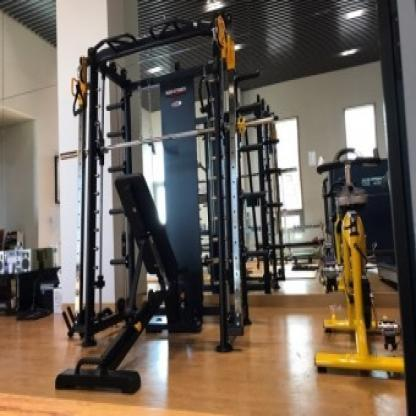smith machine: (76, 14, 253, 355)
